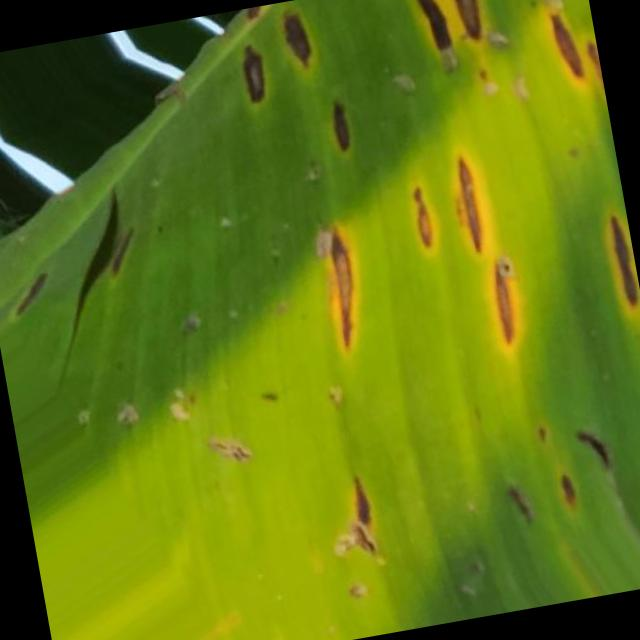Banana_Yellow_Sigatoka: (213, 0, 640, 377), (25, 158, 158, 344)
